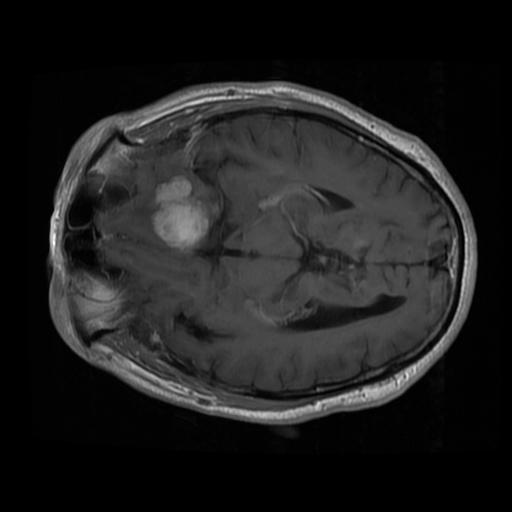meningioma: (152, 175, 208, 251)
